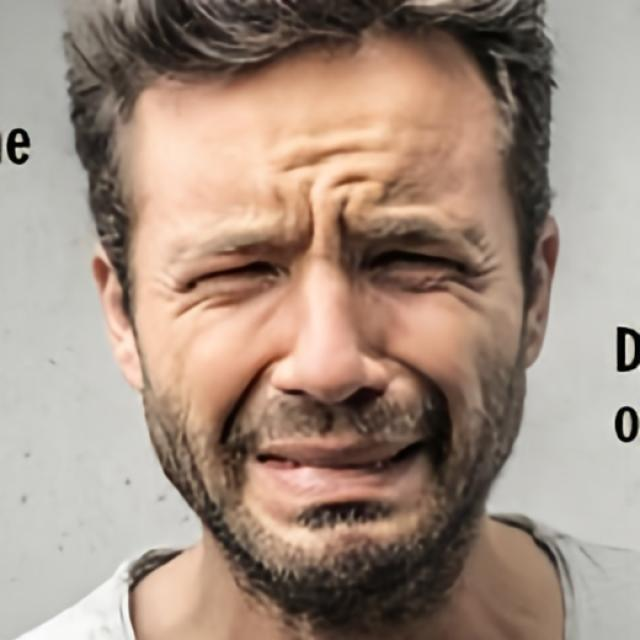sad: (134, 47, 523, 616)
